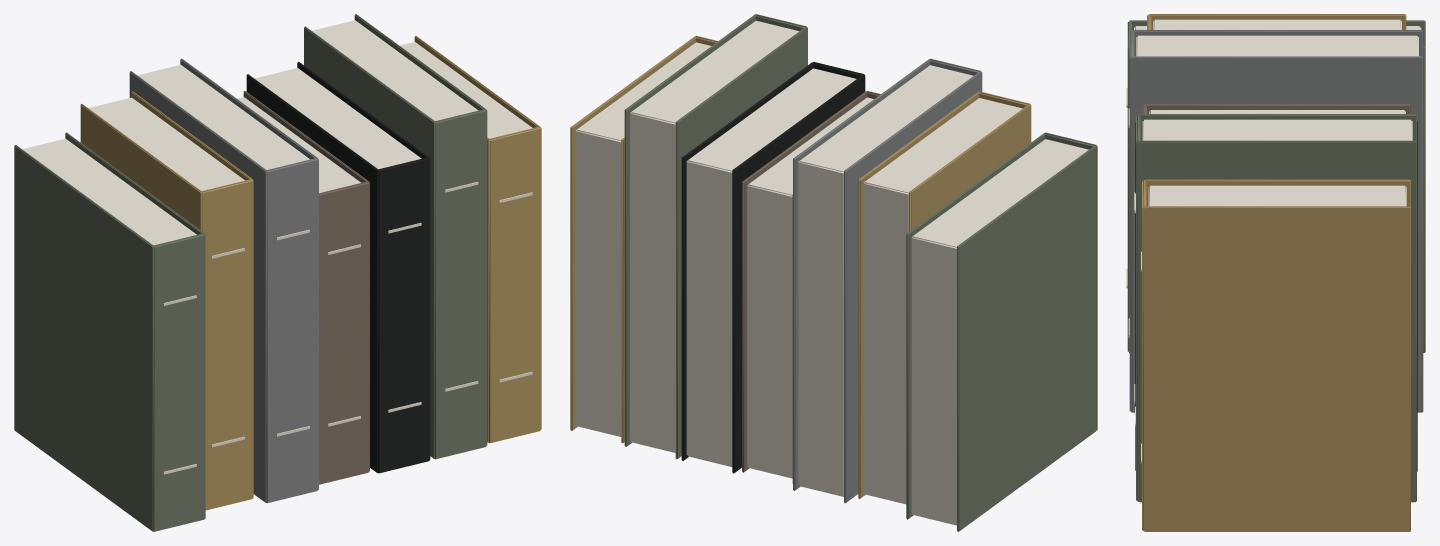
Rendered from industrial.books.gltf.
The picture shows the model from 3 angles, left to right: view 1: azimuth 30°, elevation 25°; view 2: azimuth 150°, elevation 25°; view 3: azimuth 270°, elevation 25°; orthographic projection. The views are drawn at different scales.
Parts seen in each view (by area): view 1: industrial.books.pages; view 2: industrial.books.pages; view 3: industrial.books.pages.
Part boxes in pixels (bbox=[...]): industrial.books.pages: bbox=[14, 14, 541, 531]; industrial.books.pages: bbox=[570, 14, 1097, 531]; industrial.books.pages: bbox=[1126, 14, 1425, 531].
Size of the model in its own units: 0.3366 by 0.2744 by 0.206.
Materials: 6 (1 with a texture image).
